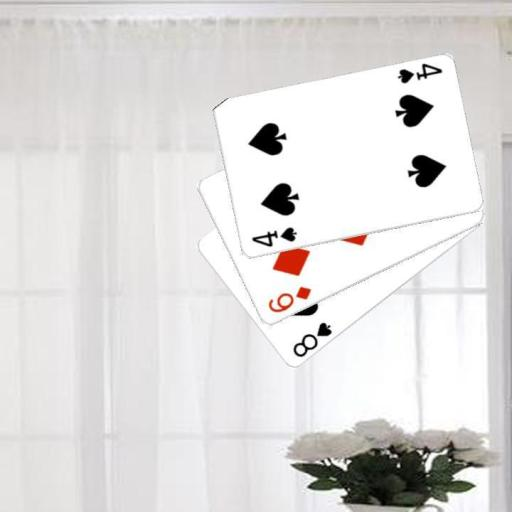card-corner: (290, 319, 334, 360), (264, 283, 313, 315), (394, 60, 444, 86), (248, 224, 298, 249)
